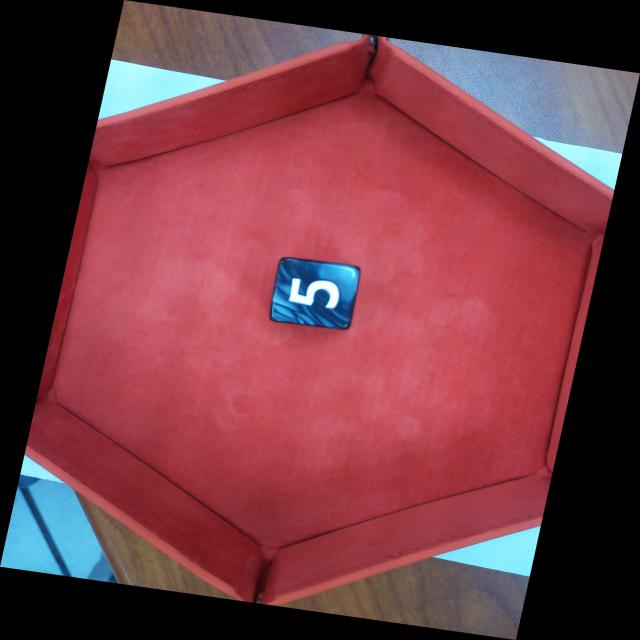dice: (270, 259, 361, 321)
